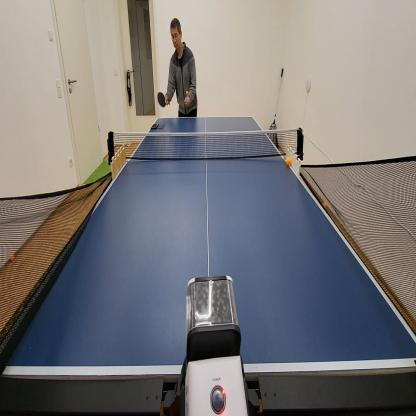Ball: (286, 156, 292, 166), (9, 252, 15, 262), (323, 200, 327, 210), (185, 90, 190, 96)
